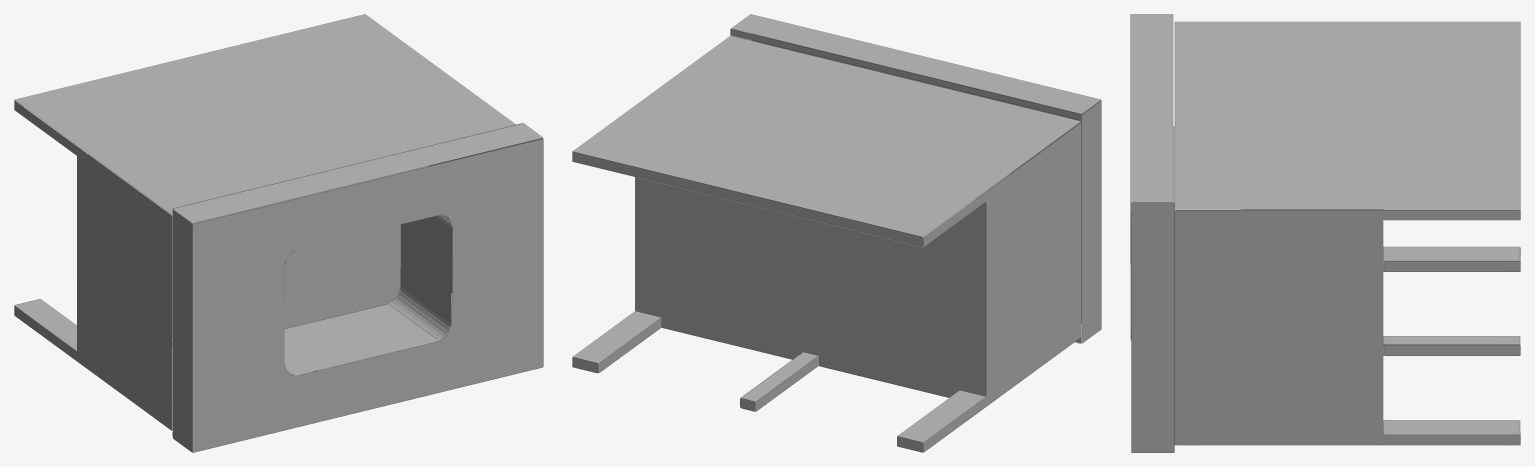
File: pz_counter_steel_floor__sink_inset_rect.obj
3 views of the same model, side by side, from view 1: azimuth 30°, elevation 25°; view 2: azimuth 150°, elevation 25°; view 3: azimuth 270°, elevation 25° (orthographic). The views are drawn at different scales.
Size of the model in its own units: 1 by 0.625 by 0.88.
1 material, 1 textured.
